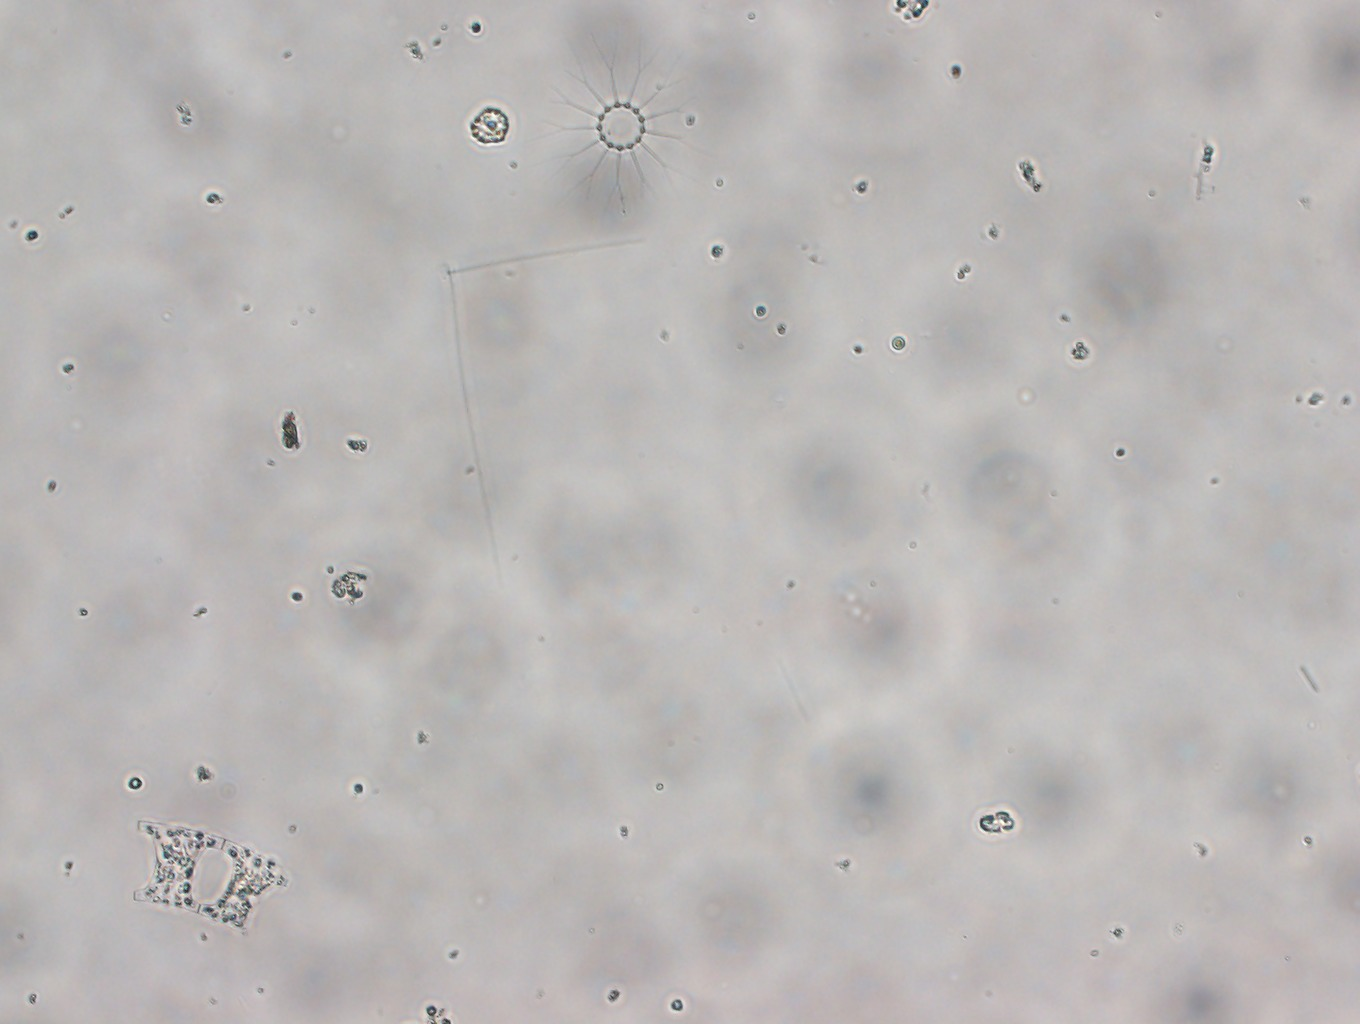bacteriastrum: (535, 44, 711, 216)
eucampia: (127, 811, 299, 944)
